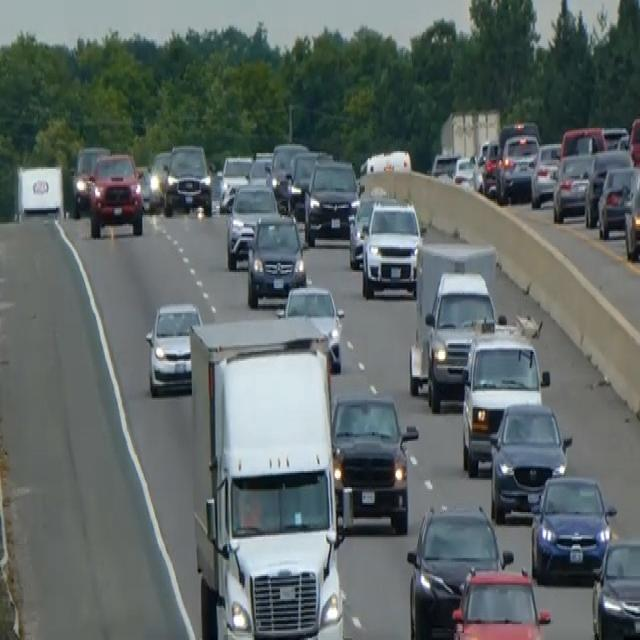car: (406, 502, 512, 638), (460, 329, 549, 476), (330, 388, 418, 534), (487, 398, 571, 521), (529, 471, 616, 581), (450, 564, 551, 638), (360, 197, 423, 299), (245, 210, 306, 308), (278, 281, 345, 370), (144, 298, 202, 396), (303, 155, 360, 245), (590, 535, 639, 638), (87, 150, 144, 236), (225, 180, 279, 268), (583, 146, 632, 228), (348, 188, 397, 268), (163, 142, 212, 217), (495, 130, 539, 202), (551, 150, 594, 222), (596, 164, 637, 238), (288, 147, 331, 217), (70, 144, 110, 217), (530, 140, 561, 208), (268, 139, 307, 190), (218, 153, 252, 210), (559, 122, 605, 156), (623, 166, 639, 262), (147, 149, 172, 208), (475, 137, 500, 194), (452, 151, 481, 192), (247, 149, 272, 185), (430, 150, 460, 180), (628, 114, 639, 167)
lorry: (188, 315, 346, 638)
truck: (423, 268, 496, 411)
